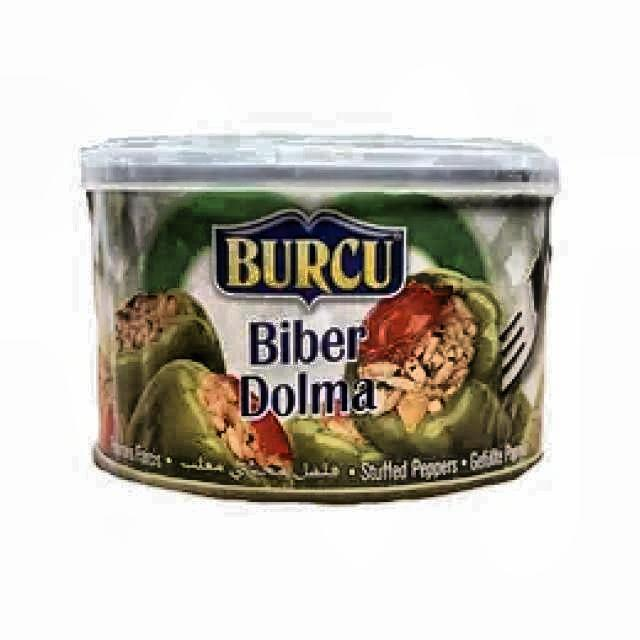metal: (79, 131, 562, 507)
